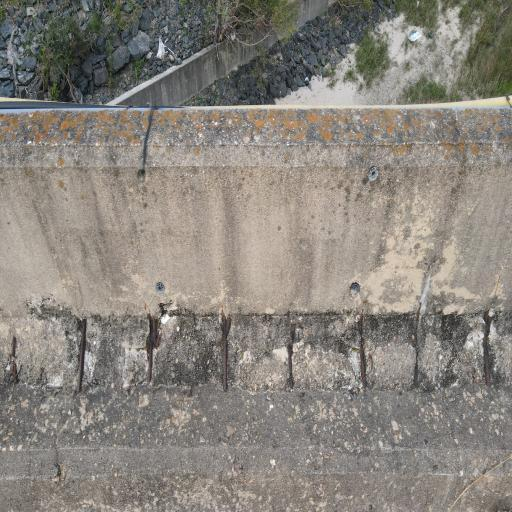exposed_rebar: (147, 315, 161, 382), (221, 308, 231, 390), (413, 302, 422, 389), (77, 318, 87, 392), (358, 309, 367, 389), (483, 311, 492, 388), (287, 324, 296, 389), (10, 336, 19, 384)
